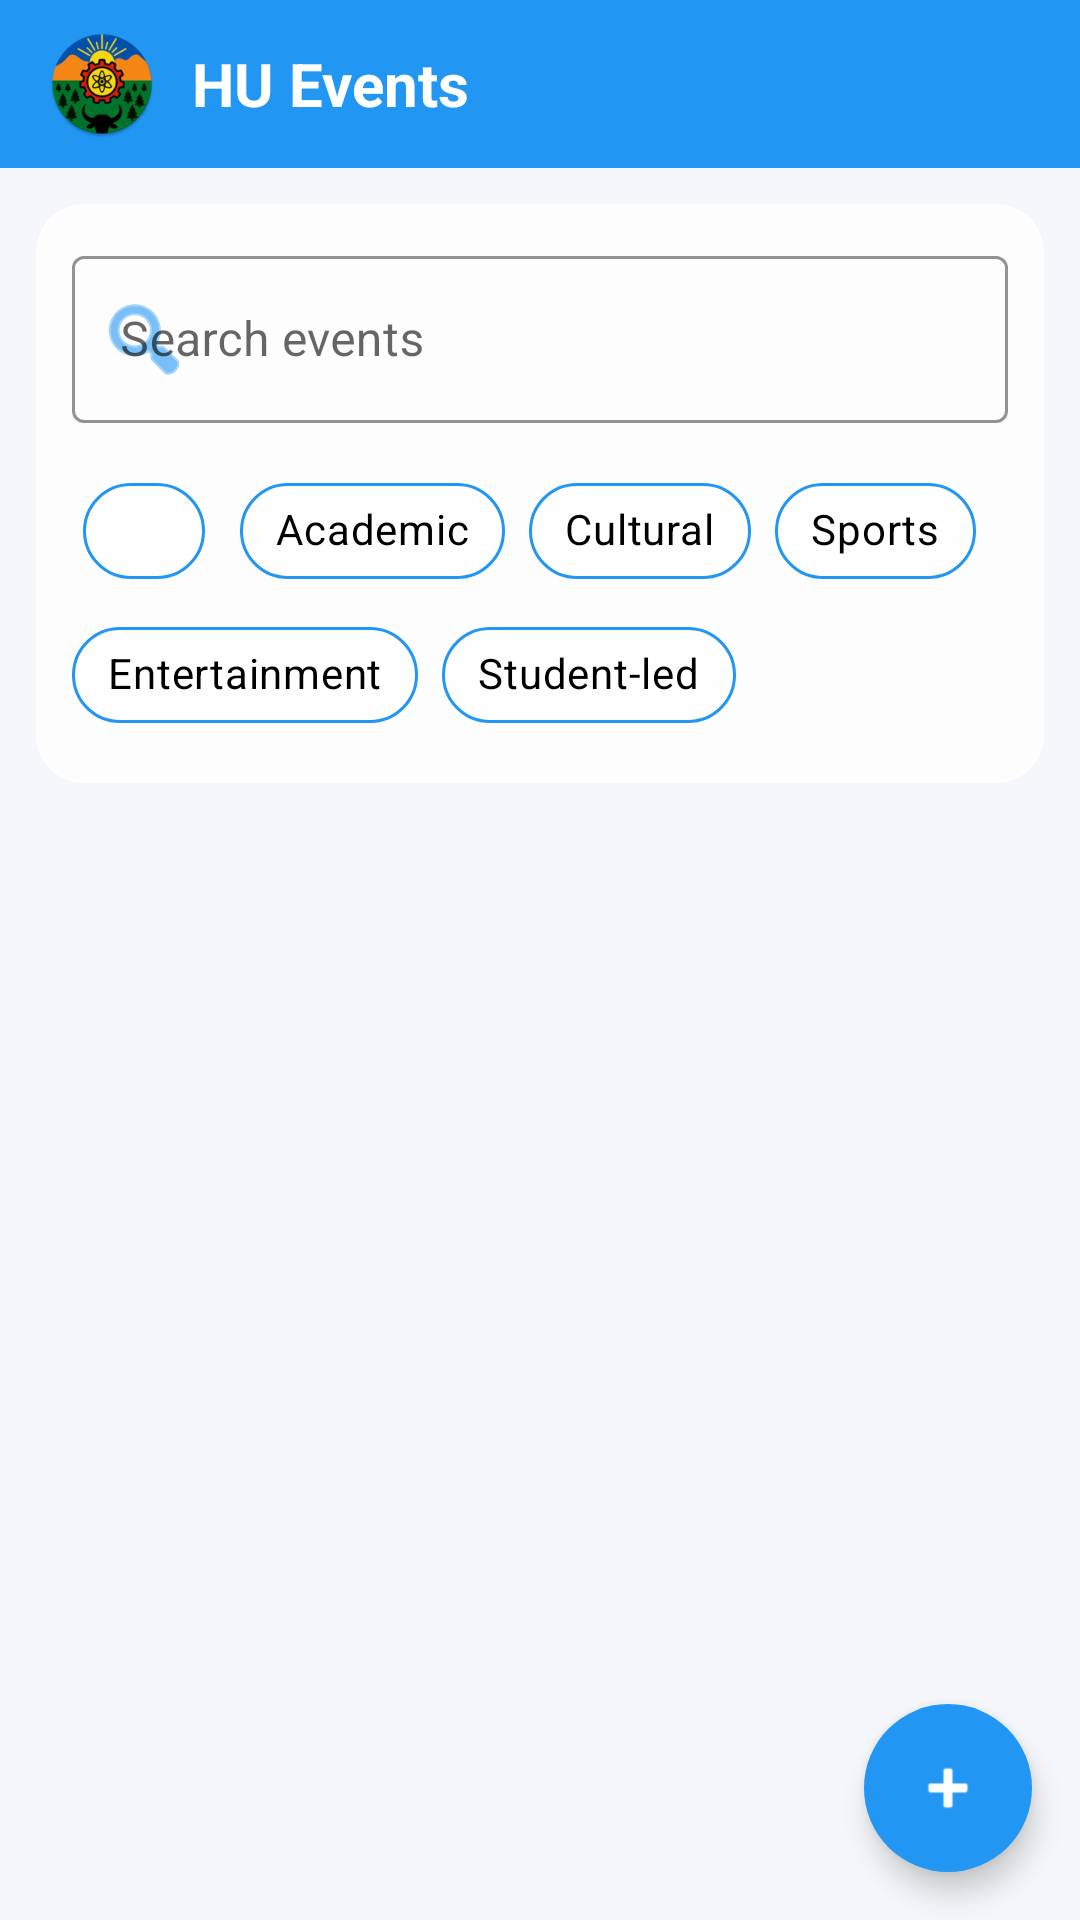

Icons on this 1080px x 1920px Android screen, each with the point to tap as [x,y]:
Add new event: [948,1788]
